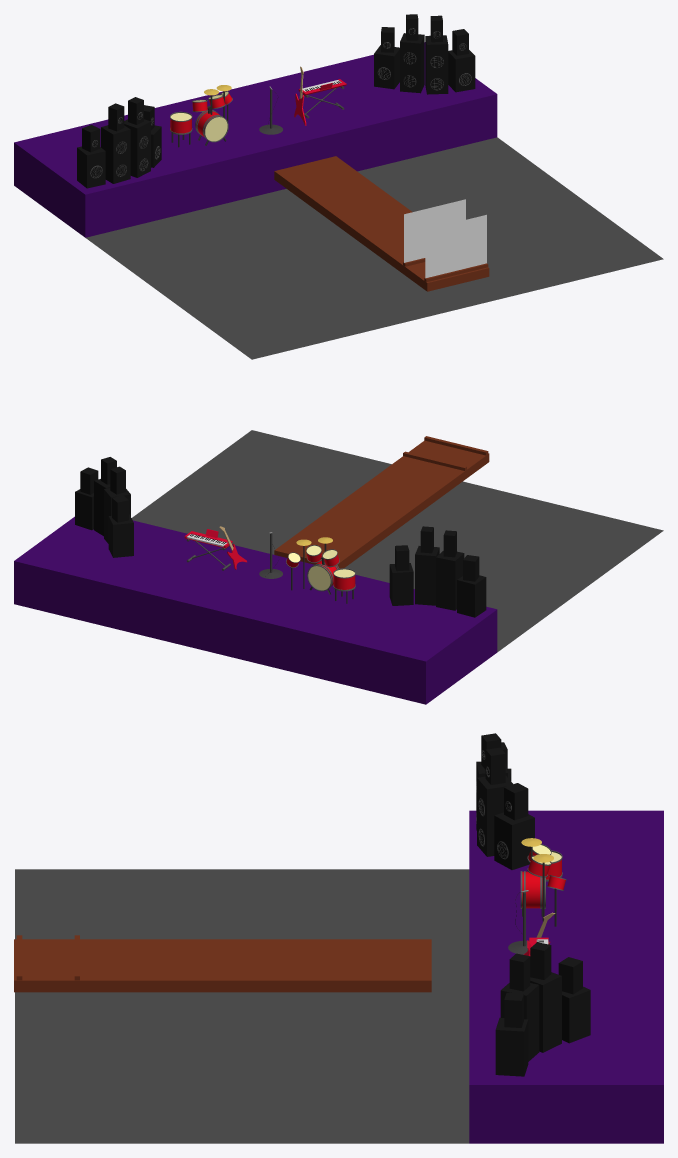
Rendered from estrade.glb.
3 renders of one model, top to bottom at view 1: azimuth 30°, elevation 25°; view 2: azimuth 150°, elevation 25°; view 3: azimuth 270°, elevation 25°, orthographic. The views are drawn at different scales.
Visible parts, largest first — view 1: Sol, Estrade, Jeu, Enceinte droite, Enceinte gauche, ZoneFin, Batterie, ZoneValide, Piano; view 2: Estrade, Sol, Jeu, Enceinte gauche, Enceinte droite, Batterie, Piano; view 3: Sol, Estrade, Jeu, Enceinte droite, Enceinte gauche, Batterie.
Boxes of the visible parts, x1,y1,x2,y2 form: Sol: (85, 137, 663, 359); Estrade: (14, 42, 497, 237); Jeu: (274, 156, 489, 291); Enceinte droite: (374, 14, 475, 94); Enceinte gauche: (77, 97, 161, 188); ZoneFin: (425, 214, 486, 278); Batterie: (170, 85, 232, 147); ZoneValide: (404, 199, 465, 262); Piano: (298, 79, 346, 118); Estrade: (14, 516, 497, 704); Sol: (131, 430, 663, 652); Jeu: (274, 436, 489, 568); Enceinte gauche: (389, 526, 486, 617); Enceinte droite: (75, 457, 133, 557); Batterie: (286, 537, 355, 603); Piano: (184, 529, 232, 570); Sol: (15, 869, 469, 1143); Estrade: (469, 810, 663, 1143); Jeu: (14, 935, 431, 992); Enceinte droite: (495, 942, 590, 1076); Enceinte gauche: (476, 733, 534, 869); Batterie: (520, 838, 566, 926).
Bounding box in the file's own units: 20 × 5.36 × 20.03.
